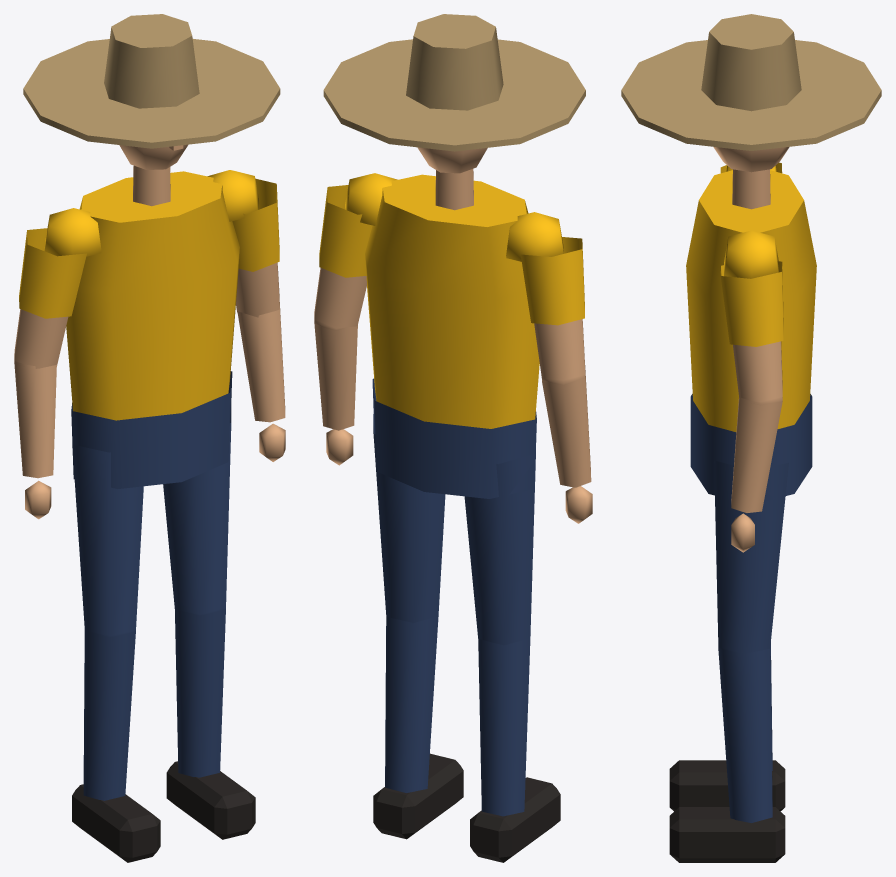
Rendered from fan_e.dae.
3 renders of one model, left to right at view 1: azimuth 30°, elevation 25°; view 2: azimuth 150°, elevation 25°; view 3: azimuth 270°, elevation 25°, orthographic. The views are drawn at different scales.
Parts seen in each view (by area): view 1: marker; view 2: marker; view 3: marker.
Part boxes in pixels (x1=…): marker: x1=14, y1=14, x2=285, y2=862; marker: x1=314, y1=14, x2=592, y2=862; marker: x1=621, y1=14, x2=881, y2=862.
Size of the model in its own units: 0.644 by 0.54 by 1.84.
1 material, 1 textured.
